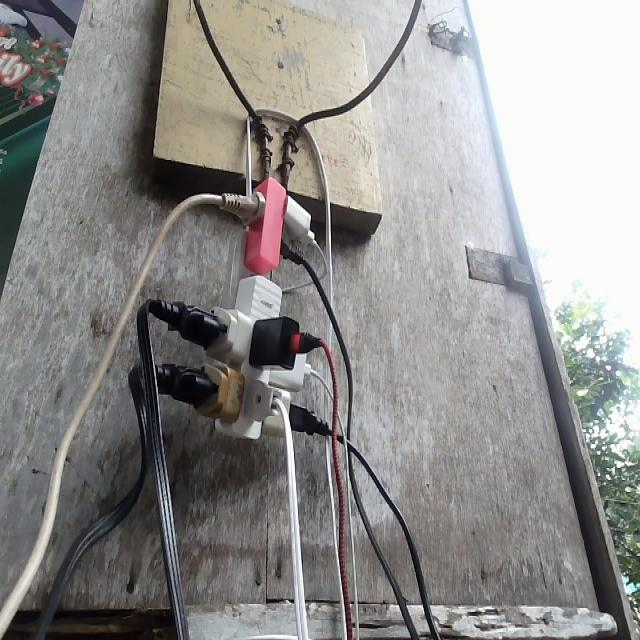-: (184, 171, 322, 436)
